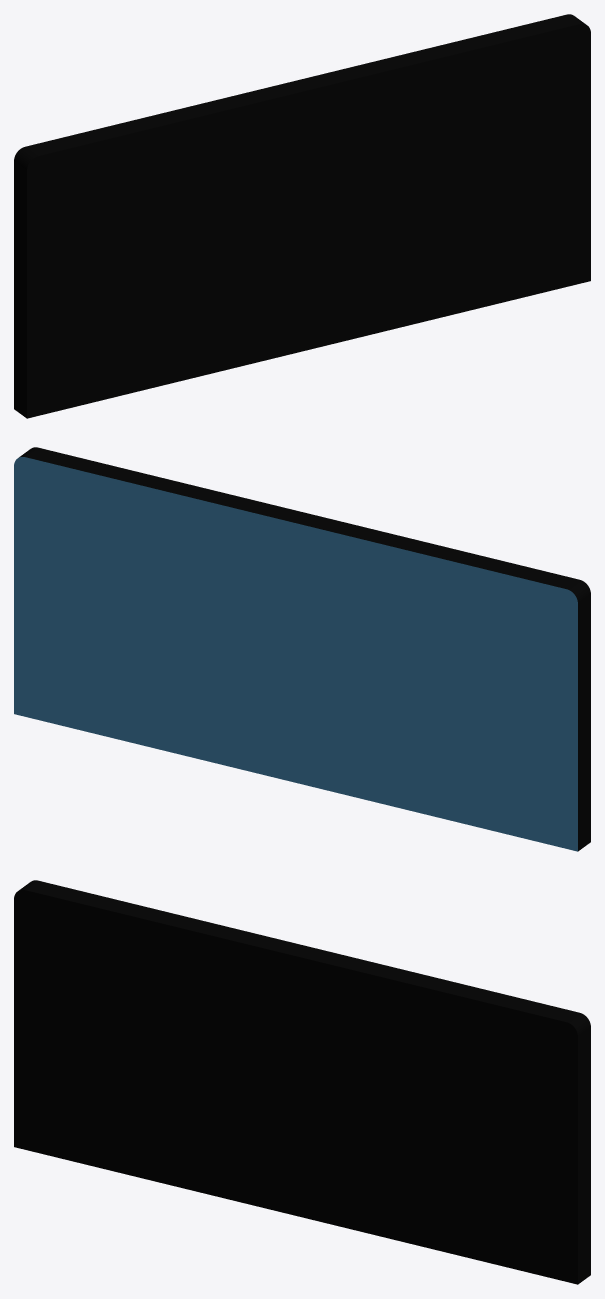
File: 424 Mini Dashboard.fbx
3 renders of one model, top to bottom at view 1: azimuth 30°, elevation 25°; view 2: azimuth 150°, elevation 25°; view 3: azimuth 330°, elevation 25°, orthographic.
Visible parts, largest first — view 1: Frame; view 2: LCD Screen, Frame; view 3: Frame.
Part boxes in pixels (<box>): Frame: <box>14,14,590,418</box>; LCD Screen: <box>14,457,577,851</box>; Frame: <box>19,447,590,851</box>; Frame: <box>14,880,590,1284</box>.
Bounding box in the file's own units: 0.125 × 0.055 × 0.005.
